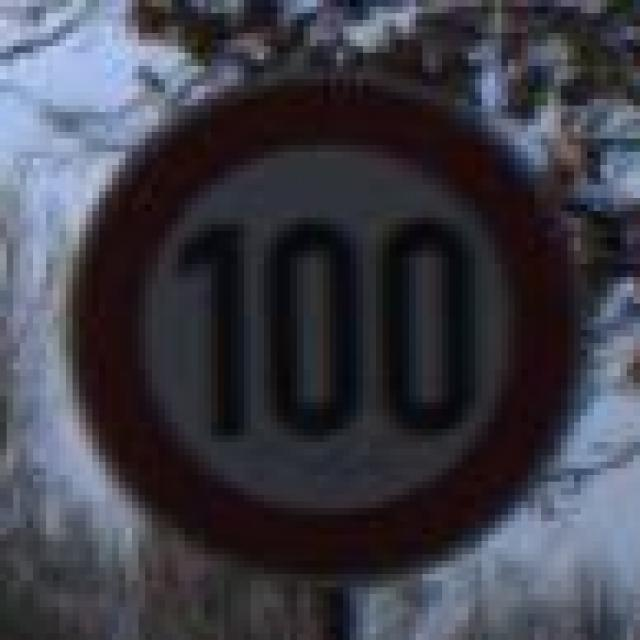Ograniczenie predkosci do 100: (60, 60, 588, 588)
